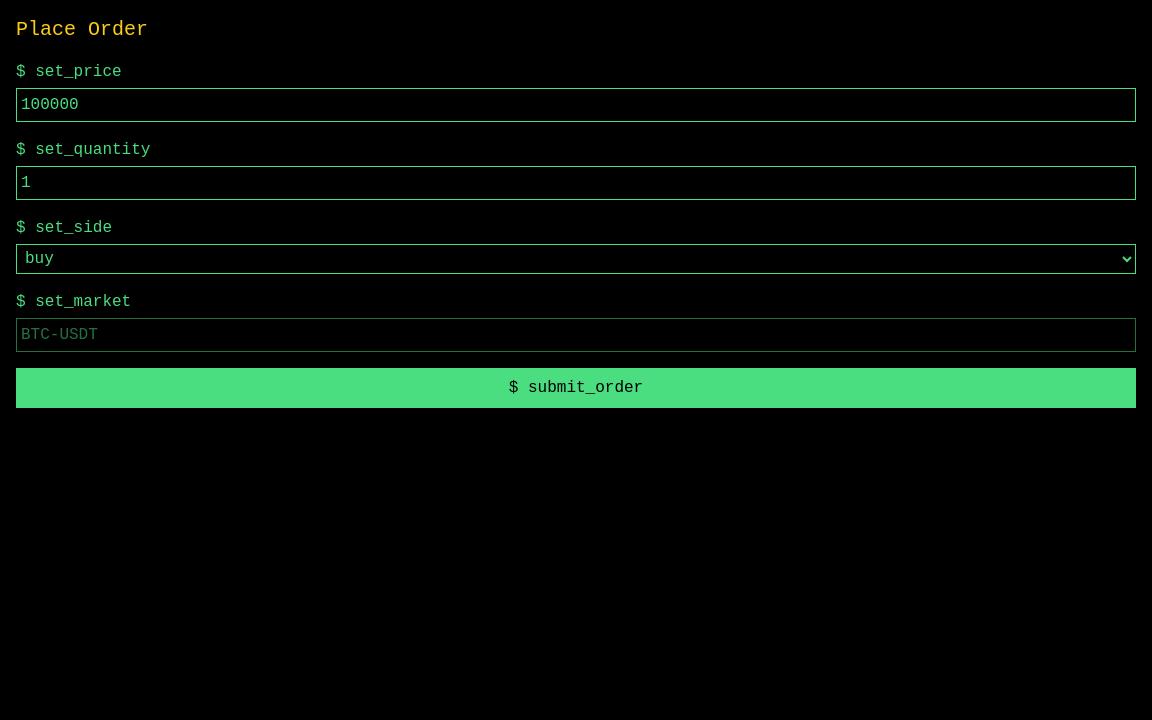
it: OrderPage › shows retry message when order succeeds but status is failed
Click the button "$ submit_order": [576, 388] box [16,368,1136,408]
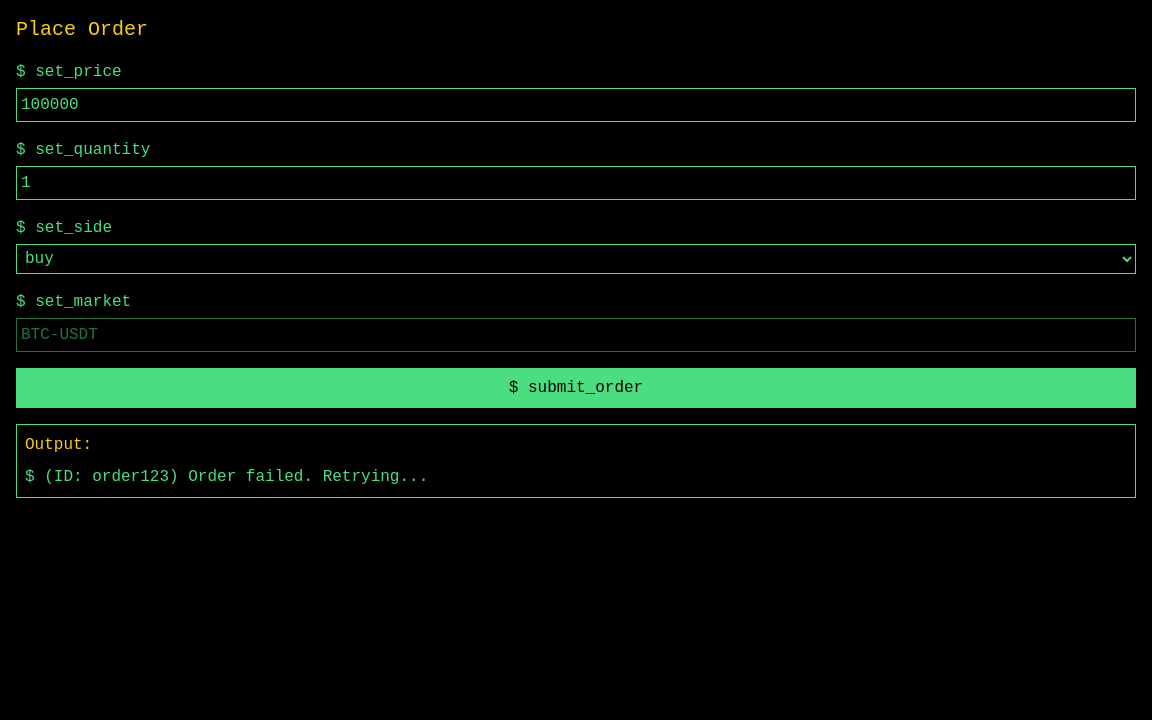
expect the text "$ (ID: order123) Order failed. Retrying..." is shown: met, box [25,468,428,486]
